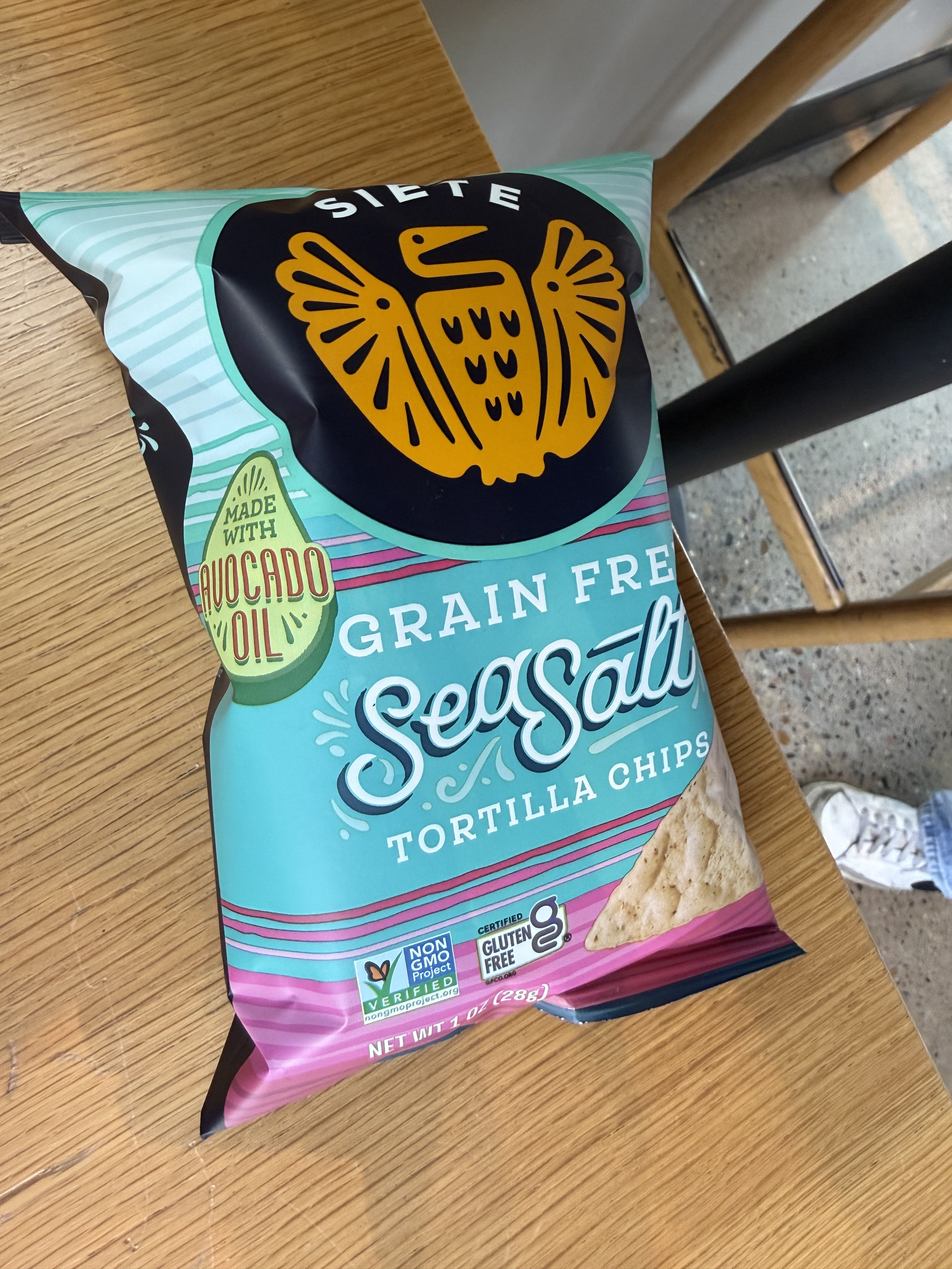sea_salt: (20, 177, 839, 1087)
